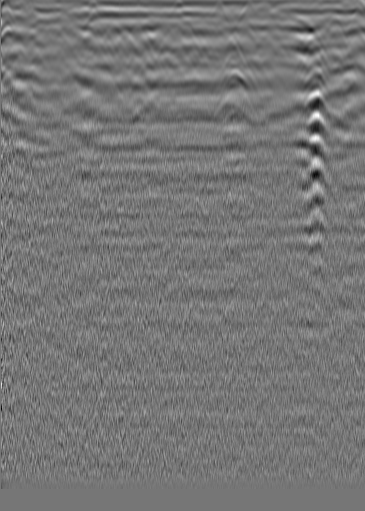가스: (210, 97, 248, 124)
상수: (295, 22, 315, 42)
오수: (21, 30, 41, 50)
우수: (164, 20, 184, 40)
